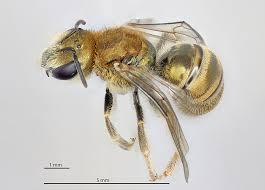Seladonia: (34, 11, 229, 173)
